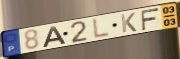2: (69, 20, 89, 44)
8: (23, 28, 40, 51)
A: (42, 25, 67, 48)
F: (140, 6, 161, 31)
K: (120, 11, 139, 34)
L: (92, 17, 111, 40)
